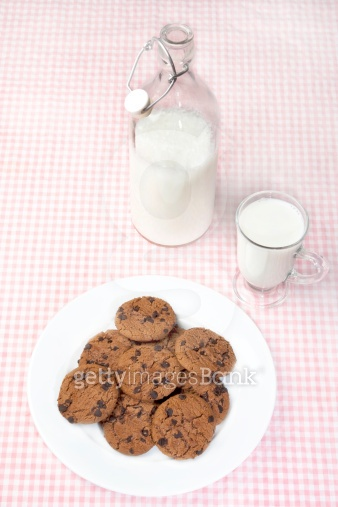glass of milk: (124, 15, 223, 256), (232, 189, 311, 301)
